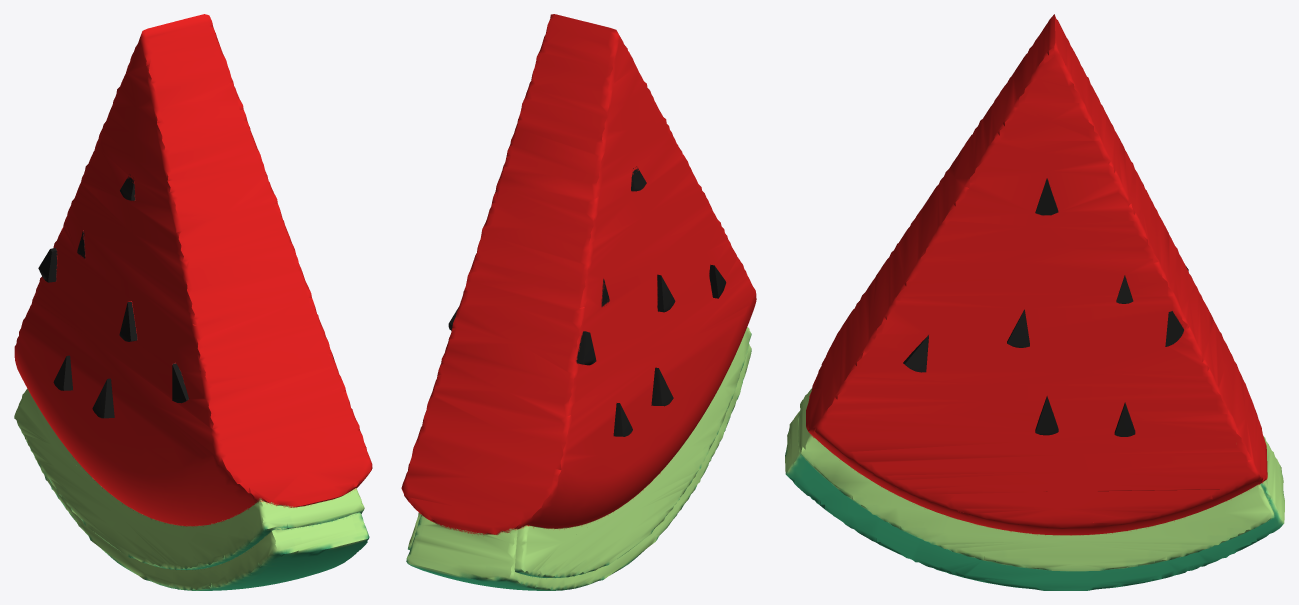
The model's file is watermelon.gltf.
The picture shows the model from 3 angles, left to right: view 1: azimuth 30°, elevation 25°; view 2: azimuth 150°, elevation 25°; view 3: azimuth 270°, elevation 25°; orthographic projection. The views are drawn at different scales.
Visible parts, largest first — view 1: Default; view 2: Default; view 3: Default.
Part boxes in pixels (left/top/right/bottom): Default: left=14, top=14, right=372, bottom=590; Default: left=401, top=14, right=756, bottom=590; Default: left=785, top=14, right=1284, bottom=590.
Bounding box in the file's own units: 2.29 × 7.08 × 6.03.
1 material, 1 textured.
